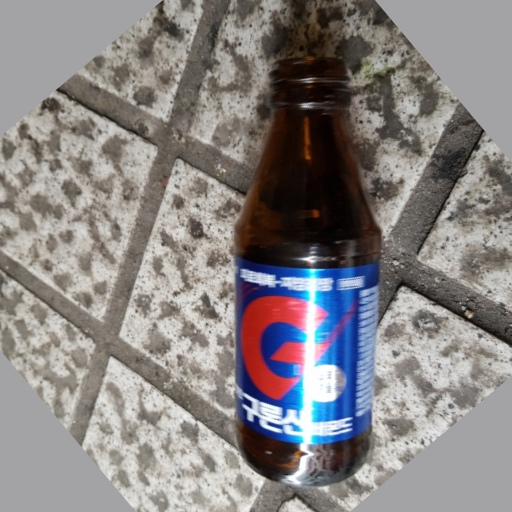Glass_3: (227, 58, 385, 490)
